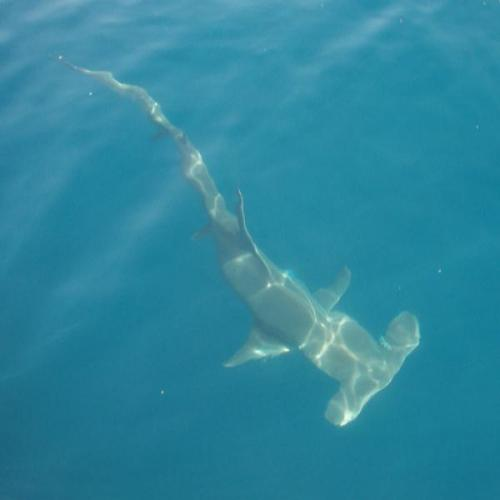shark-endangered: (60, 51, 424, 431)
